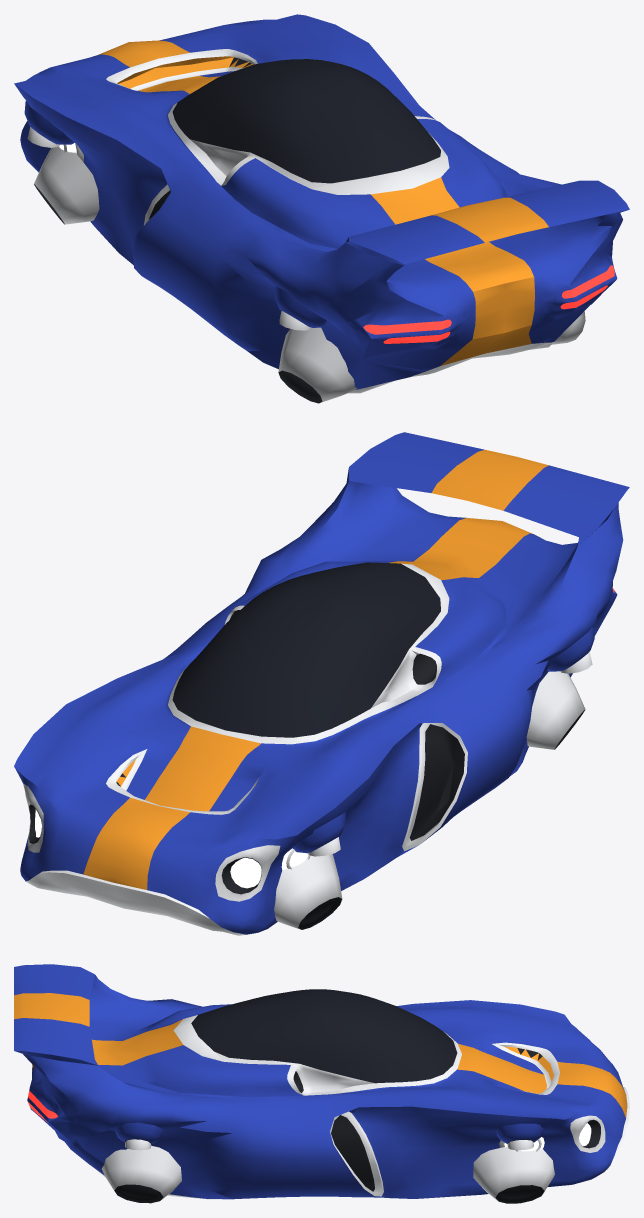
The picture shows the model from 3 angles, top to bottom: view 1: azimuth 30°, elevation 25°; view 2: azimuth 150°, elevation 25°; view 3: azimuth 270°, elevation 25°; orthographic projection. The views are drawn at different scales.
Visible parts, largest first — view 1: Body.001, Canopy, Sockets; view 2: Body.001, Canopy, Sockets; view 3: Body.001, Canopy, Sockets.
Boxes of the visible parts, x1=… form: Body.001: x1=14, y1=14, x2=629, y2=393; Canopy: x1=172, y1=59, x2=440, y2=183; Sockets: x1=24, y1=101, x2=585, y2=403; Body.001: x1=14, y1=432, x2=629, y2=935; Canopy: x1=172, y1=562, x2=440, y2=737; Sockets: x1=274, y1=627, x2=594, y2=929; Body.001: x1=14, y1=964, x2=629, y2=1199; Canopy: x1=191, y1=989, x2=457, y2=1083; Sockets: x1=101, y1=1122, x2=554, y2=1203.
Size of the model in its own units: 1.89 by 1.13 by 4.01.
